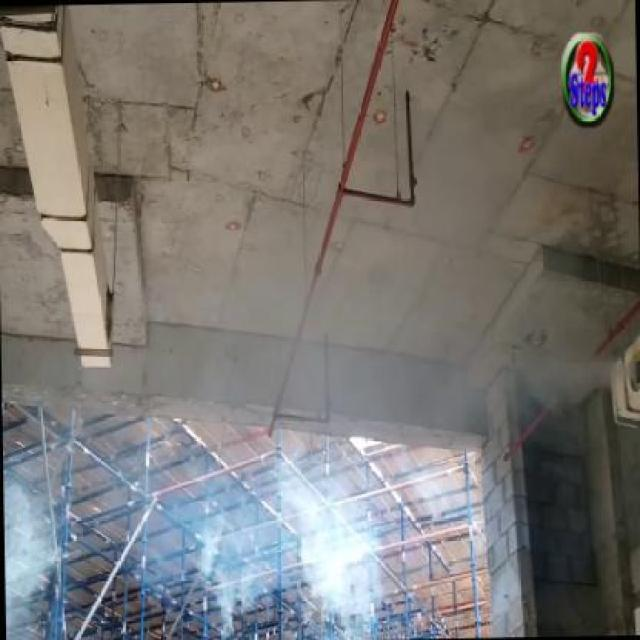fire: (139, 466, 276, 634), (276, 462, 389, 638), (0, 474, 63, 640), (536, 314, 636, 397)
